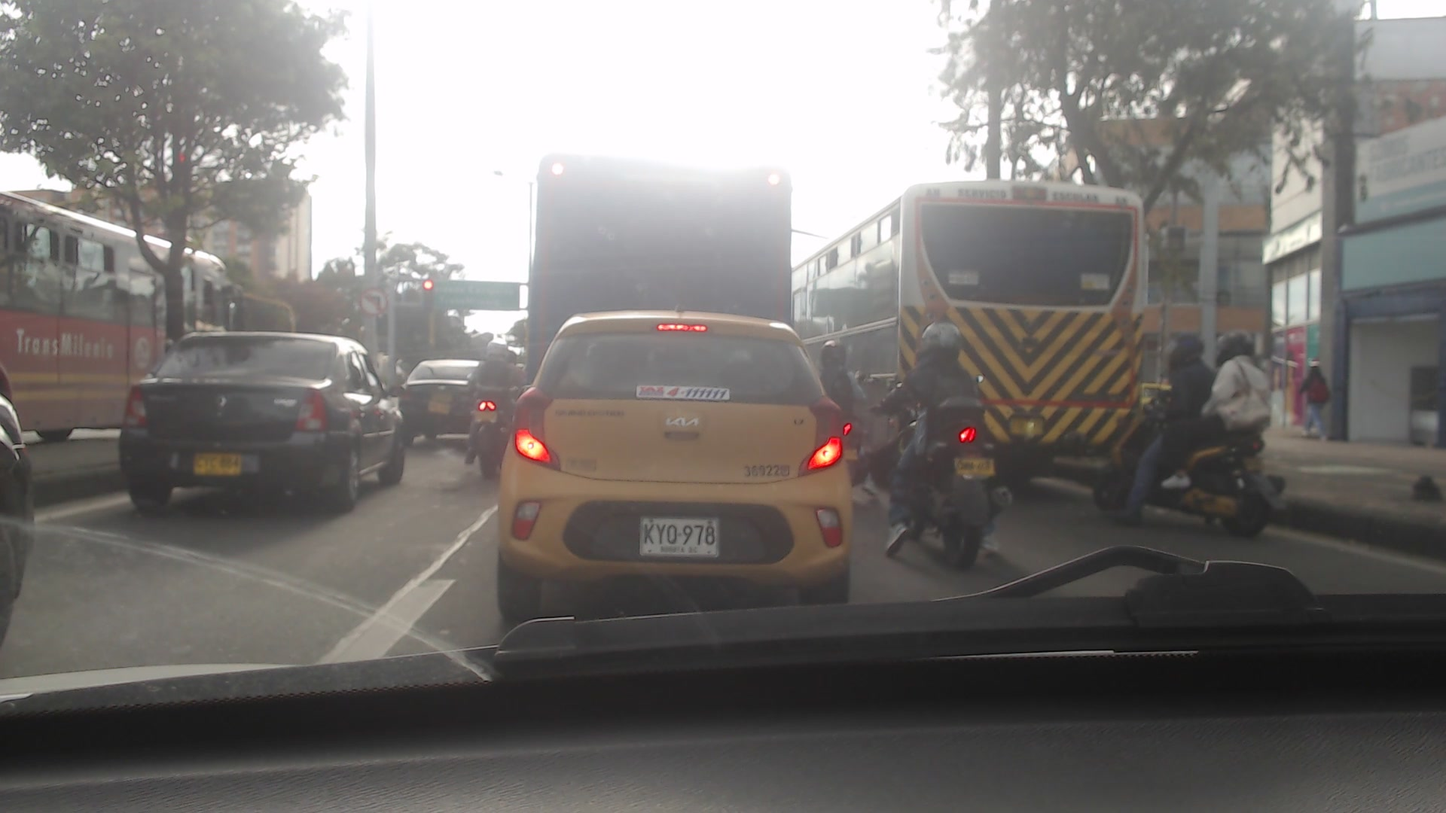bus: (777, 177, 1152, 464)
car: (488, 316, 858, 618), (120, 329, 413, 503), (401, 354, 480, 448)
motorcycle: (1098, 405, 1276, 533), (870, 415, 1008, 569)
person: (893, 322, 992, 470), (1139, 324, 1213, 453), (1203, 326, 1268, 448), (1297, 359, 1334, 442), (464, 336, 515, 395)
truck: (529, 148, 801, 318)
